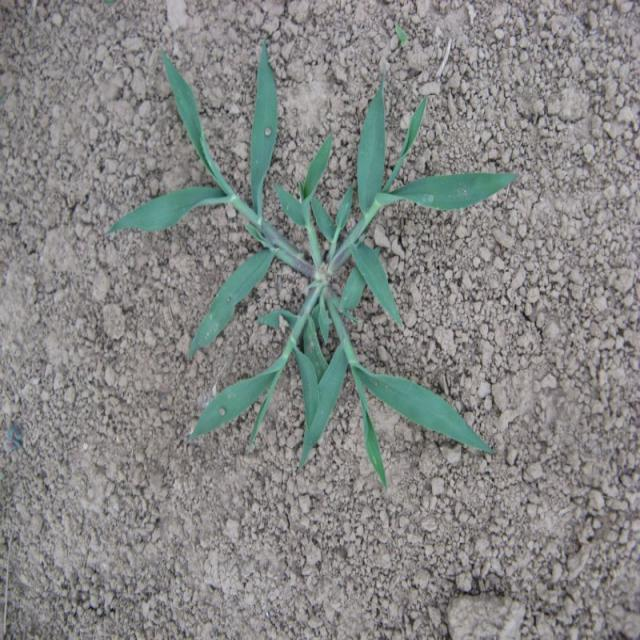bg: (102, 46, 514, 477)
